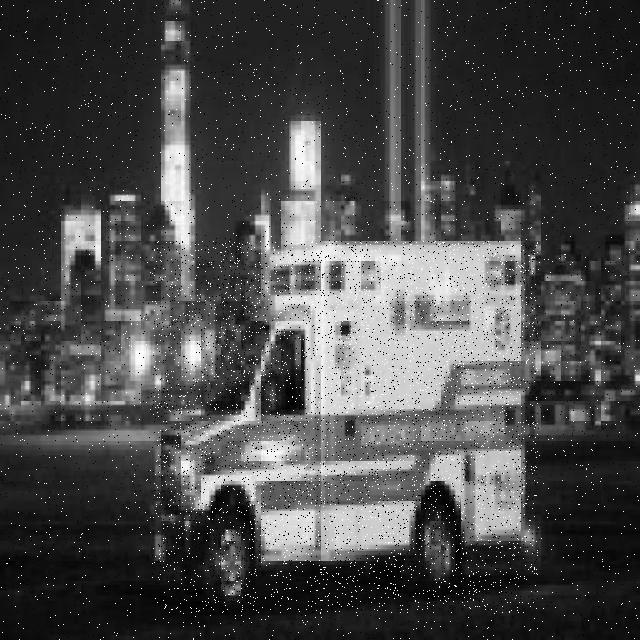Ambulance: (153, 241, 538, 613)
